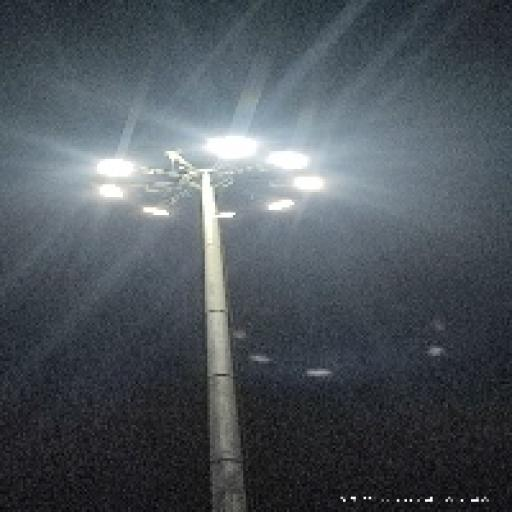Working: (205, 128, 261, 170), (87, 152, 155, 180), (264, 145, 317, 174), (288, 173, 335, 199), (264, 196, 303, 222), (86, 183, 132, 204), (137, 200, 174, 224)
